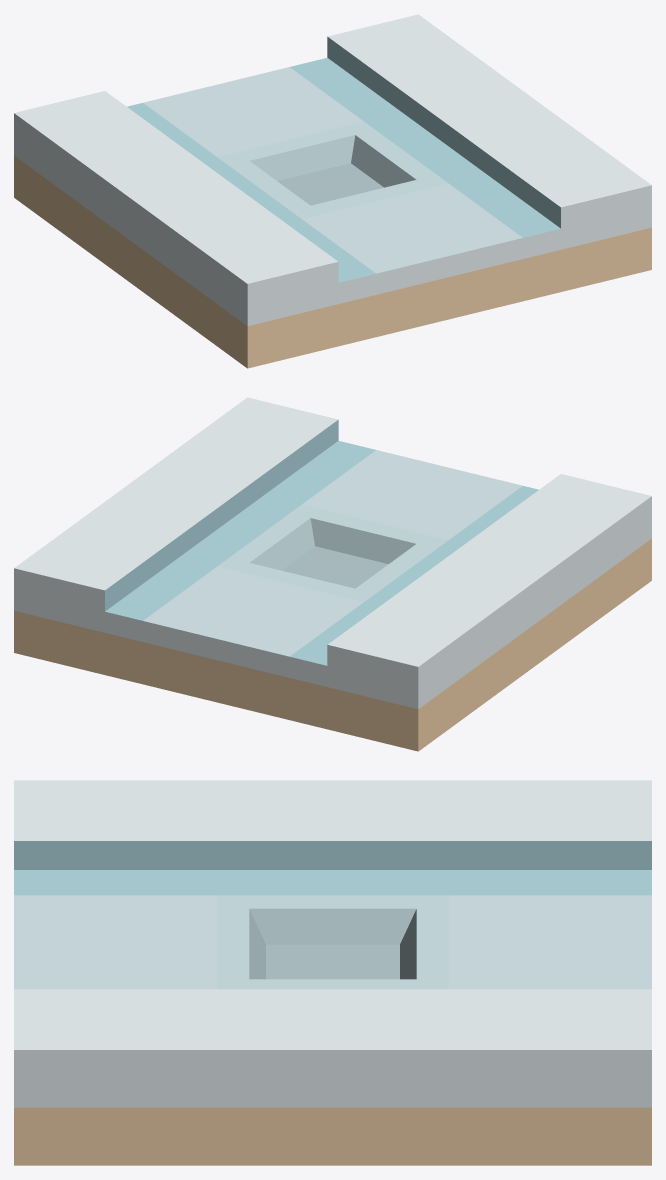
The model's file is snow_tile_spawn.glb.
The picture shows the model from 3 angles, top to bottom: view 1: azimuth 30°, elevation 25°; view 2: azimuth 150°, elevation 25°; view 3: azimuth 270°, elevation 25°; orthographic projection. The views are drawn at different scales.
Parts seen in each view (by area): view 1: snow_tile_spawn; view 2: snow_tile_spawn; view 3: snow_tile_spawn.
Part boxes in pixels (<box>): snow_tile_spawn: <box>14,14,651,368</box>; snow_tile_spawn: <box>14,397,651,751</box>; snow_tile_spawn: <box>14,780,651,1165</box>.
Size of the model in its own units: 1 by 0.2 by 1.
